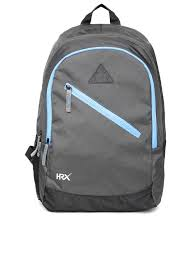backpack: (25, 3, 166, 212)
